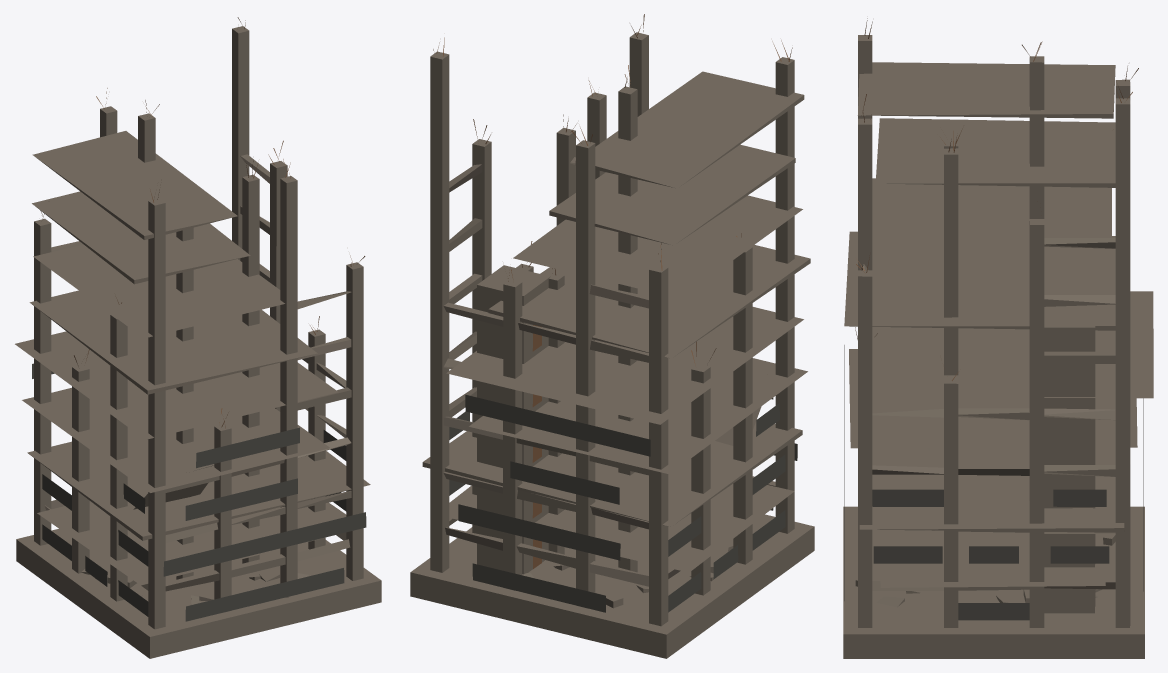
Rendered from tower-stump-lod1.glb.
3 views of the same model, side by side, from view 1: azimuth 30°, elevation 25°; view 2: azimuth 150°, elevation 25°; view 3: azimuth 270°, elevation 25° (orthographic). The views are drawn at different scales.
Visible parts, largest first — view 1: tower-stump.001; view 2: tower-stump.001; view 3: tower-stump.001.
Part boxes in pixels (left/top/right/bottom): tower-stump.001: left=15, top=17, right=381, bottom=658; tower-stump.001: left=410, top=14, right=814, bottom=658; tower-stump.001: left=843, top=18, right=1153, bottom=658.
Size of the model in its own units: 16.38 by 34.09 by 16.87.
